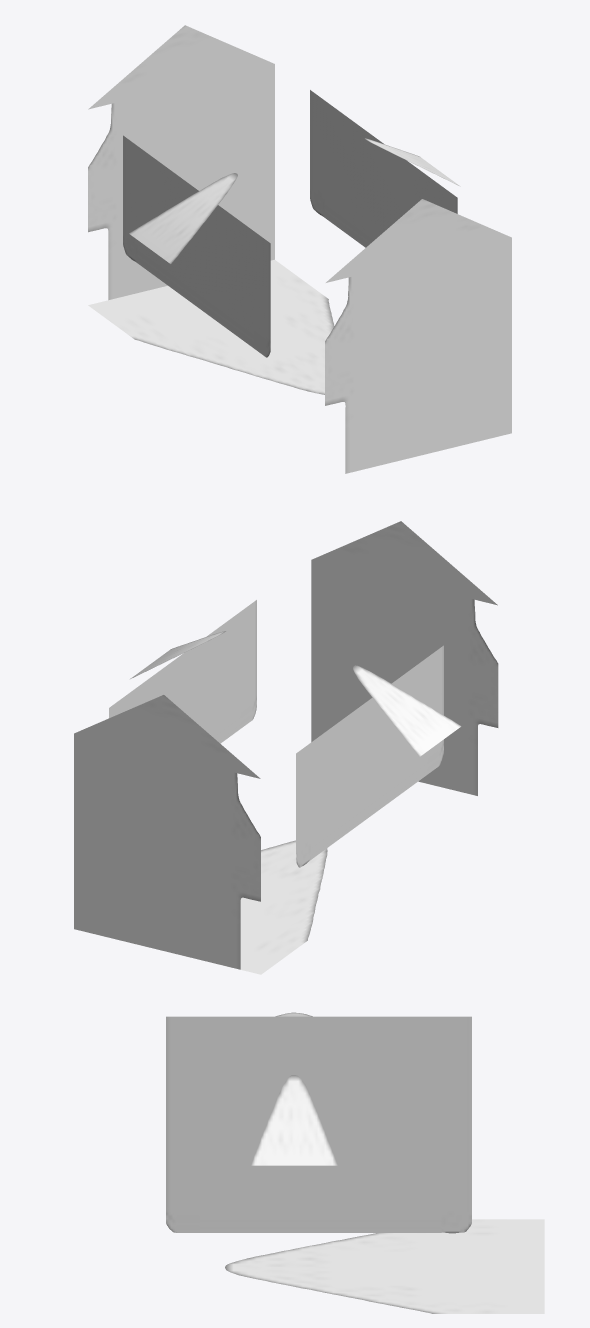
File: House.fbx
The picture shows the model from 3 angles, top to bottom: view 1: azimuth 30°, elevation 25°; view 2: azimuth 150°, elevation 25°; view 3: azimuth 270°, elevation 25°; orthographic projection. The views are drawn at different scales.
Parts seen in each view (by area): view 1: polySurface7; view 2: polySurface7; view 3: polySurface7.
Boxes of the visible parts, bbox=[...] form: polySurface7: bbox=[88, 25, 511, 473]; polySurface7: bbox=[74, 521, 498, 974]; polySurface7: bbox=[166, 1012, 544, 1313].
Bounding box in the file's own units: 5.84 × 4.92 × 9.44.
